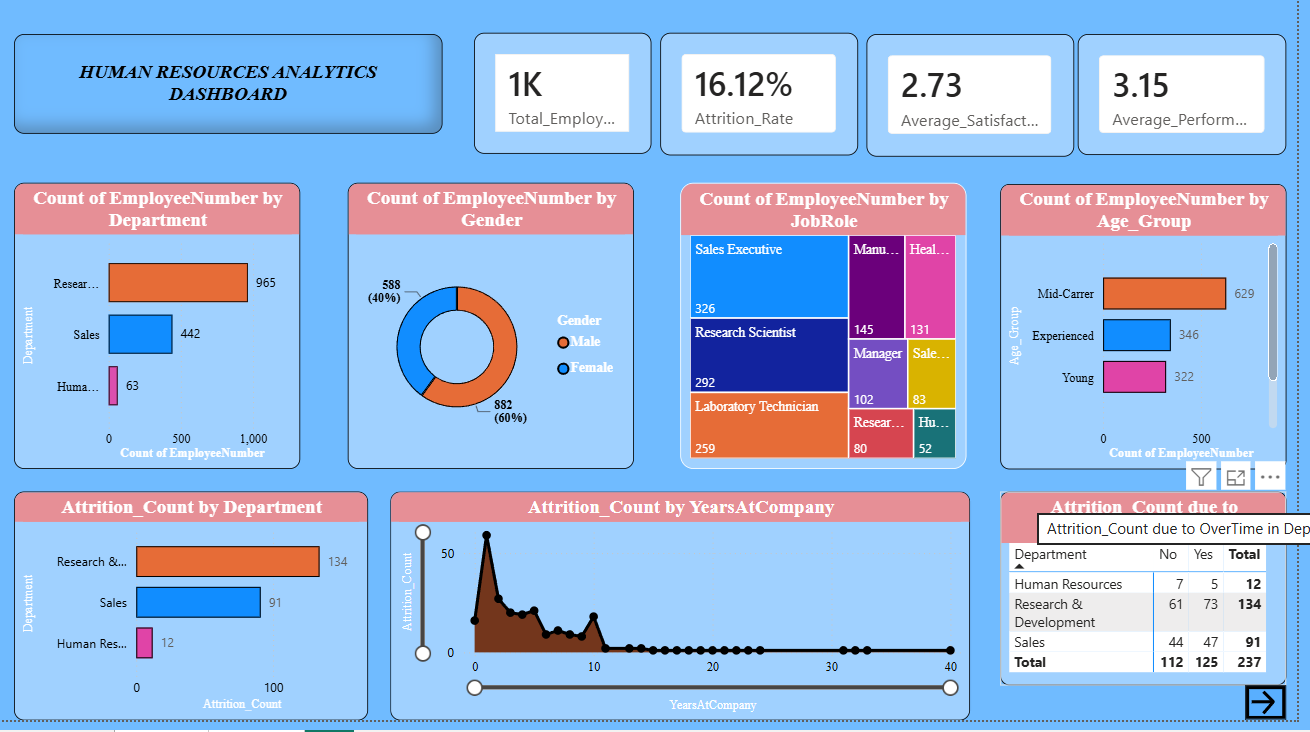

What the dashboard file says about the page in this screenshot:
{"tool":"powerbi","page":{"name":"Page 1","canvas":[1280,720],"ordinal":0},"visuals":[{"type":"cardVisual","fields":{"Data":["Employee_Master.Total_Employees"]},"box":[474.5,47.7,173.6,118.6],"z":0},{"type":"clusteredBarChart","fields":{"Category":["Employee_Master.Department"],"Y":["CountNonNull(Employee_Master.EmployeeNumber)"]},"box":[24.5,194.4,280,280],"z":1000},{"type":"donutChart","fields":{"Category":["Employee_Master.Gender"],"Y":["CountNonNull(Employee_Master.EmployeeNumber)"]},"box":[351,194.4,280,280],"z":2000},{"type":"clusteredBarChart","fields":{"Category":["Employee_Master.Age_Group"],"Y":["CountNonNull(Employee_Master.EmployeeNumber)"]},"box":[989.3,195.7,280,278.8],"z":3000},{"type":"treemap","fields":{"Group":["Employee_Master.JobRole"],"Values":["CountNonNull(Employee_Master.EmployeeNumber)"]},"box":[676.2,194.4,280,280],"z":4000},{"type":"cardVisual","fields":{"Data":["Employee_Attrition.Attrition_Rate"]},"box":[656.7,47.7,193.2,119.8],"z":5000},{"type":"clusteredBarChart","fields":{"Category":["Employee_Master.Department"],"Y":["Employee_Attrition.Attrition_Count"]},"box":[24.5,496.5,346.1,223.8],"z":6000},{"type":"lineChart","fields":{"Category":["Employee_Attrition.YearsAtCompany"],"Y":["Employee_Attrition.Attrition_Count"]},"box":[392.5,496.5,567.4,223.8],"z":7000},{"type":"pivotTable","title":"Attrition_Count due to OverTime in Departments","fields":{"Rows":["Employee_Master.Department"],"Values":["Employee_Attrition.Attrition_Count"],"Columns":["Employee_Attrition.OverTime"]},"box":[989.3,496.5,280,189.5],"z":8000},{"type":"cardVisual","fields":{"Data":["Employee_Performance.Average_Performance"]},"box":[1065.1,48.9,204.2,118.6],"z":9000},{"type":"cardVisual","fields":{"Data":["Employee_Performance.Average_Satisfaction"]},"box":[858.4,48.9,203,119.8],"z":10000},{"type":"textbox","box":[24.5,48.9,419.4,97.8],"z":11000},{"type":"actionButton","box":[1228.9,686,40.4,34.2],"z":12000}]}

Visuals, with their boxes in screenshot pixels (x1, y1, x2, y2), scaled from the page's 1280x720 canvas onto the 1310x732 screenshot:
cardVisual - Employee_Master.Total_Employees: {"x1": 486, "y1": 48, "x2": 663, "y2": 169}
clusteredBarChart - Employee_Master.Department x CountNonNull(Employee_Master.EmployeeNumber): {"x1": 25, "y1": 198, "x2": 312, "y2": 482}
donutChart - Employee_Master.Gender x CountNonNull(Employee_Master.EmployeeNumber): {"x1": 359, "y1": 198, "x2": 646, "y2": 482}
clusteredBarChart - Employee_Master.Age_Group x CountNonNull(Employee_Master.EmployeeNumber): {"x1": 1012, "y1": 199, "x2": 1299, "y2": 482}
treemap - Employee_Master.JobRole x CountNonNull(Employee_Master.EmployeeNumber): {"x1": 692, "y1": 198, "x2": 979, "y2": 482}
cardVisual - Employee_Attrition.Attrition_Rate: {"x1": 672, "y1": 48, "x2": 870, "y2": 170}
clusteredBarChart - Employee_Master.Department x Employee_Attrition.Attrition_Count: {"x1": 25, "y1": 505, "x2": 379, "y2": 731}
lineChart - Employee_Attrition.YearsAtCompany x Employee_Attrition.Attrition_Count: {"x1": 402, "y1": 505, "x2": 982, "y2": 731}
"Attrition_Count due to OverTime in Departments" pivotTable: {"x1": 1012, "y1": 505, "x2": 1299, "y2": 697}
cardVisual - Employee_Performance.Average_Performance: {"x1": 1090, "y1": 50, "x2": 1299, "y2": 170}
cardVisual - Employee_Performance.Average_Satisfaction: {"x1": 879, "y1": 50, "x2": 1086, "y2": 172}
textbox: {"x1": 25, "y1": 50, "x2": 454, "y2": 149}
actionButton: {"x1": 1258, "y1": 697, "x2": 1299, "y2": 731}
